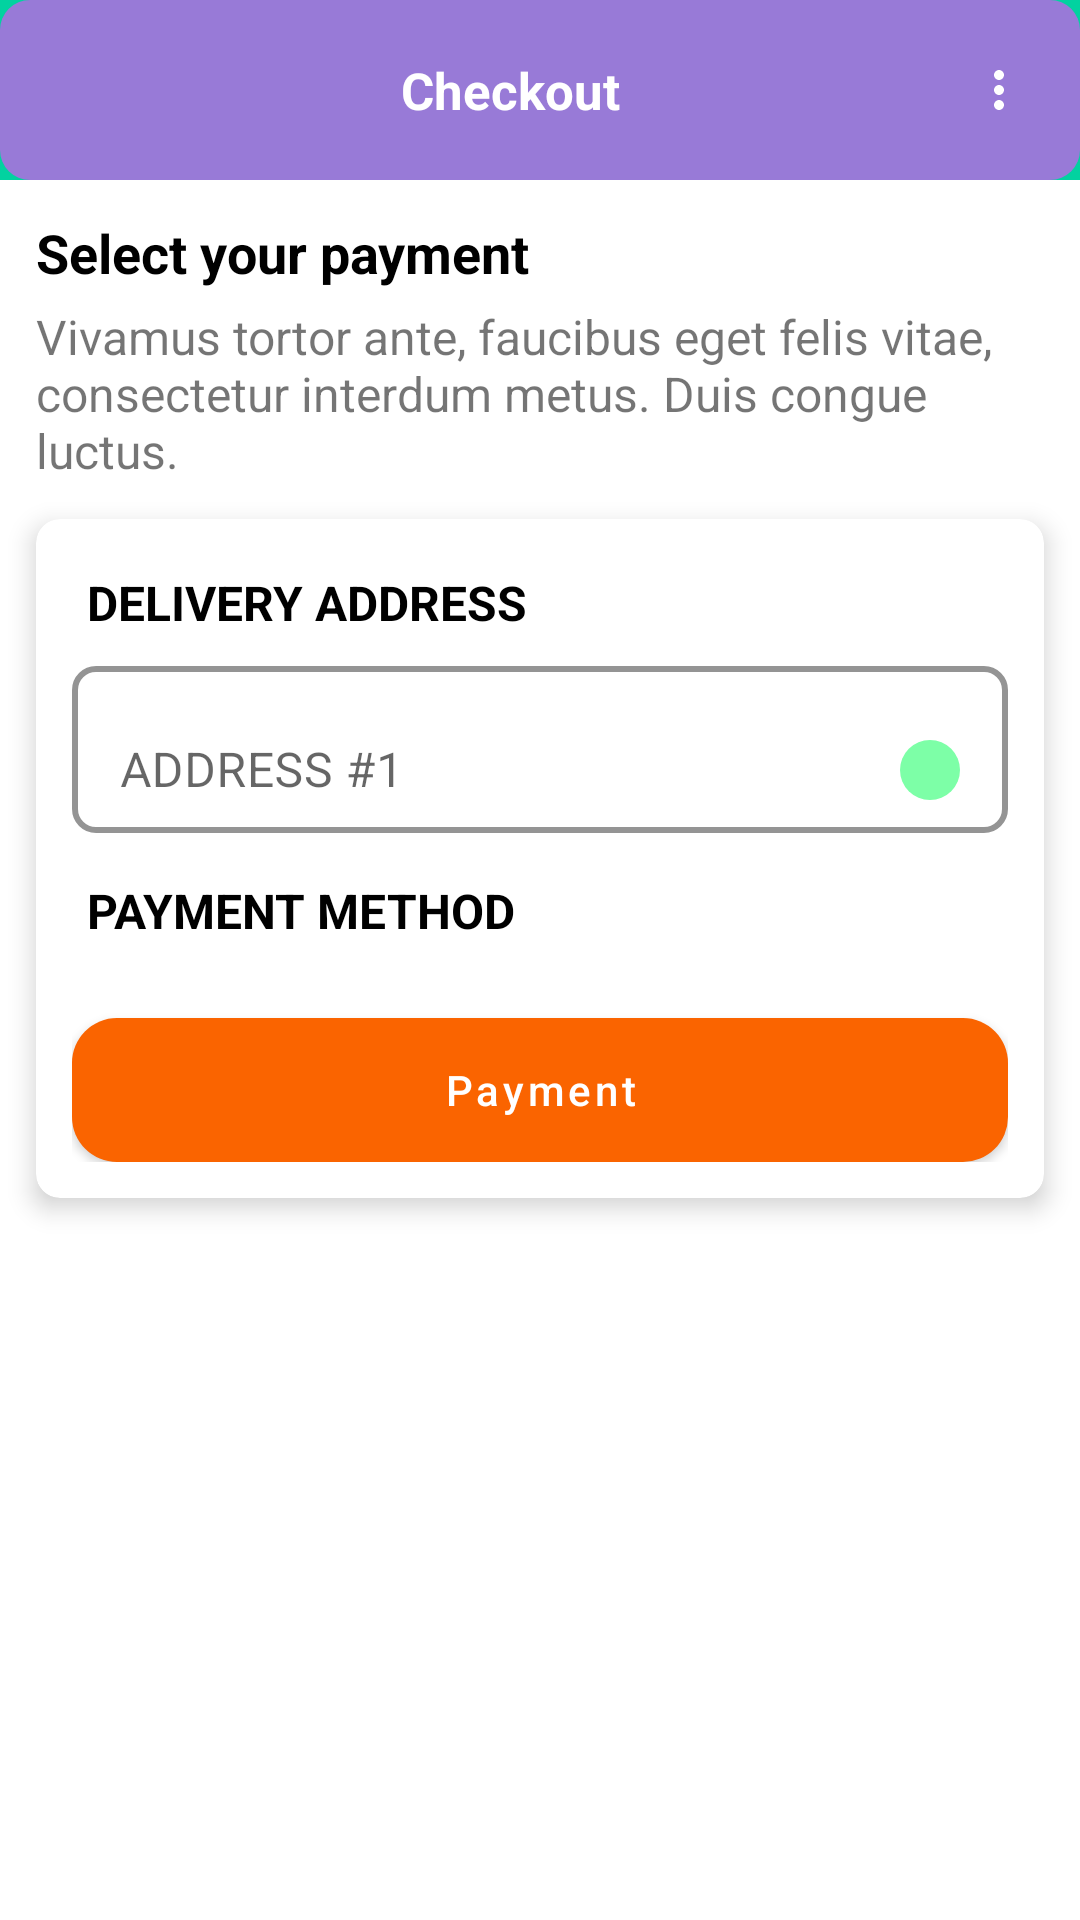

Screen size 1080x1920. Icon name, then its box in pixels as (x1, y1, x2, y2):
more vert: (994, 70, 1004, 110)
